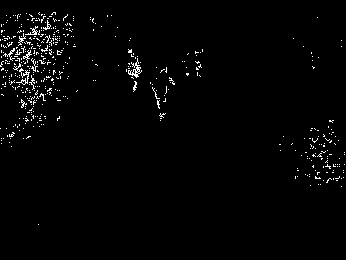person: (148, 65, 176, 123), (125, 47, 144, 94)
